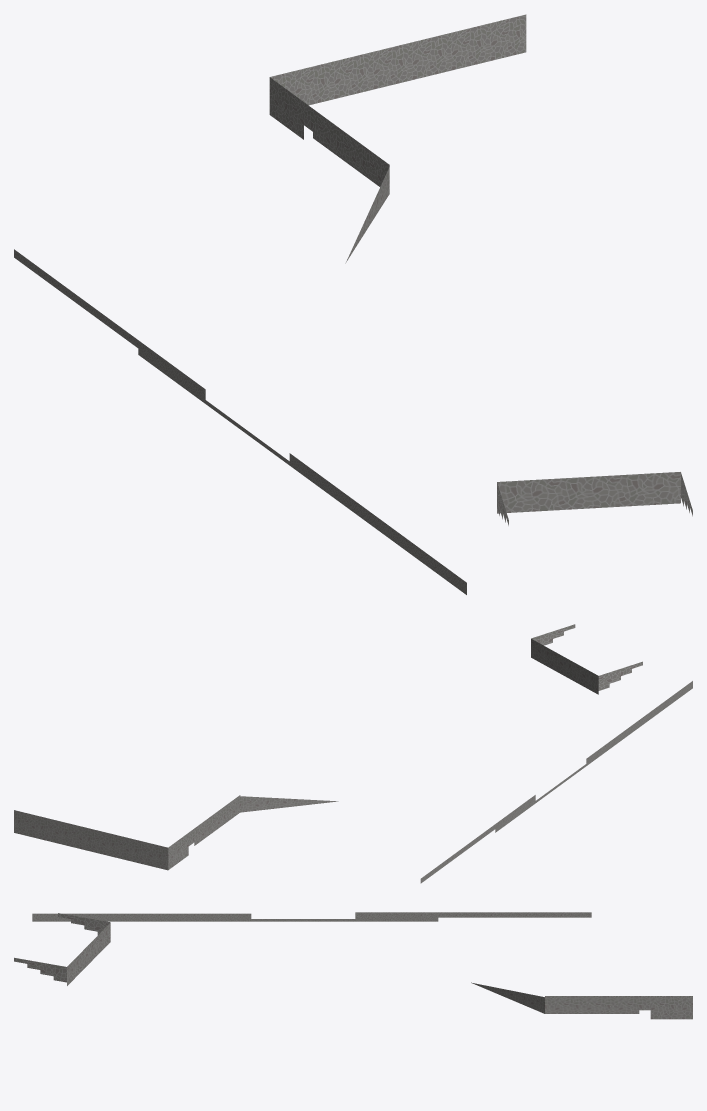
File: kd_stage_135ebf_0_12.glb
The picture shows the model from 3 angles, top to bottom: view 1: azimuth 30°, elevation 25°; view 2: azimuth 150°, elevation 25°; view 3: azimuth 270°, elevation 25°; orthographic projection. The views are drawn at different scales.
Parts seen in each view (by area): view 1: kd_stage_135ebf_0_12; view 2: kd_stage_135ebf_0_12; view 3: kd_stage_135ebf_0_12.
Part boxes in pixels (x1,y1,x2,y2): kd_stage_135ebf_0_12: (14,14,692,594); kd_stage_135ebf_0_12: (14,624,692,883); kd_stage_135ebf_0_12: (14,912,692,1019).
Size of the model in its own units: 14.77 by 1.05 by 23.67.
1 material, 1 textured.
